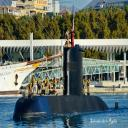submarine: (14, 45, 119, 121)
